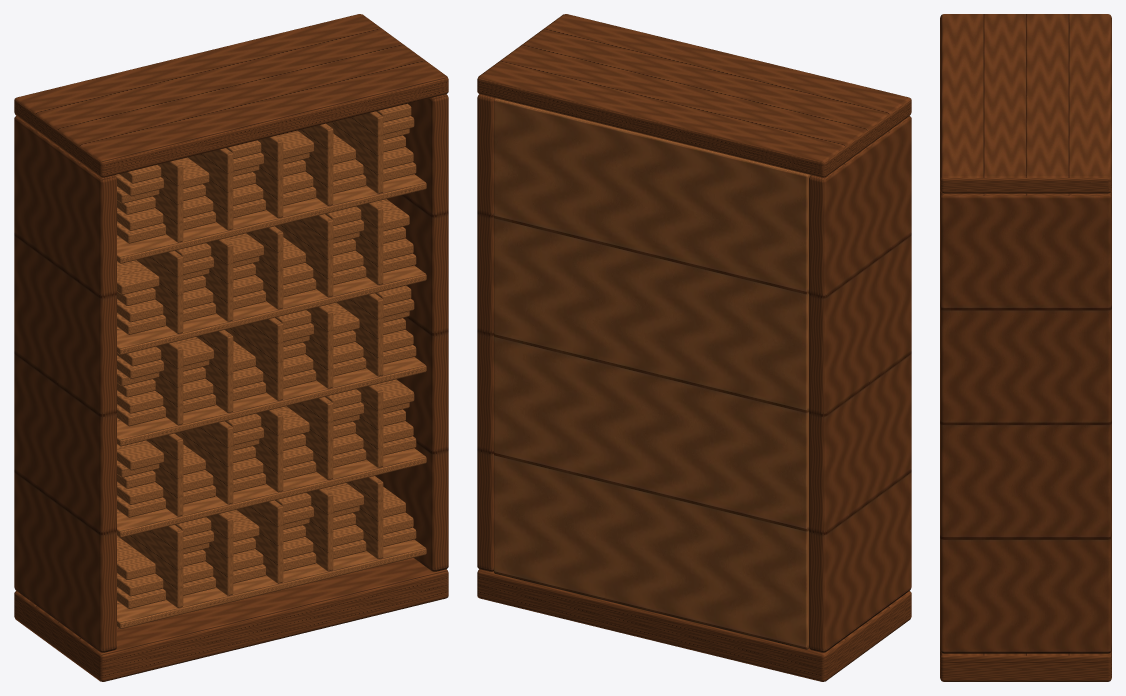
File: printing-press-and-newspaper-office-furniture-rack-d252c708__37739.glb
3 views of the same model, side by side, from view 1: azimuth 30°, elevation 25°; view 2: azimuth 150°, elevation 25°; view 3: azimuth 270°, elevation 25° (orthographic). The views are drawn at different scales.
Parts seen in each view (by area): view 1: furniture-rack; view 2: furniture-rack; view 3: furniture-rack.
Part boxes in pixels (bbox=[...]): furniture-rack: bbox=[14, 14, 448, 681]; furniture-rack: bbox=[477, 14, 911, 681]; furniture-rack: bbox=[940, 14, 1111, 681].
Bounding box in the file's own units: 1 × 1.43 × 0.4399.
2 materials, 2 textured.
